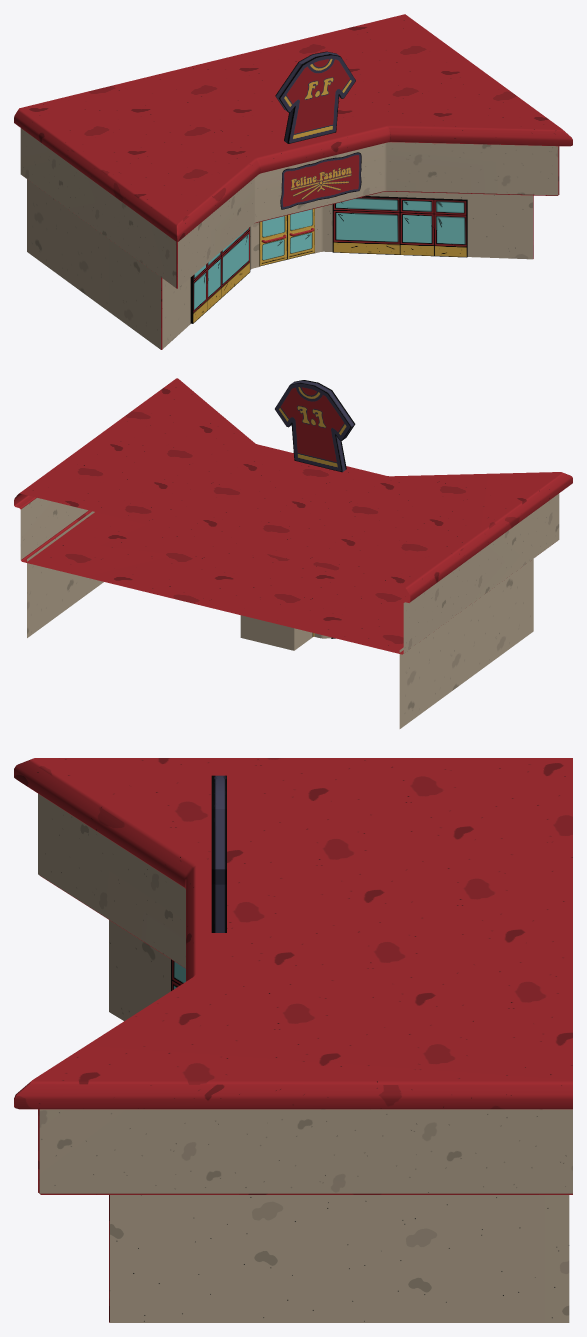
File: Fashion_Shop_.fbx
3 renders of one model, top to bottom at view 1: azimuth 30°, elevation 25°; view 2: azimuth 150°, elevation 25°; view 3: azimuth 270°, elevation 25°, orthographic. The views are drawn at different scales.
Parts seen in each view (by area): view 1: Box031, Box032, Box178, Box181, Box180, Plane002, Box179, Box177, Bot_Right_Shopfront_003, Bot_Right_Shopfront_004; view 2: Box031, Box032, Box178; view 3: Box031, Box032, Box178.
Part boxes in pixels (x1=…): Box031: x1=14, y1=14, x2=572, y2=288; Box032: x1=27, y1=179, x2=533, y2=349; Box178: x1=275, y1=51, x2=355, y2=143; Box181: x1=400, y1=197, x2=467, y2=257; Box180: x1=332, y1=196, x2=399, y2=254; Plane002: x1=280, y1=152, x2=361, y2=209; Box179: x1=190, y1=251, x2=221, y2=323; Box177: x1=221, y1=227, x2=250, y2=297; Bot_Right_Shopfront_003: x1=259, y1=215, x2=287, y2=266; Bot_Right_Shopfront_004: x1=287, y1=208, x2=314, y2=259; Box031: x1=14, y1=378, x2=572, y2=654; Box032: x1=27, y1=511, x2=533, y2=728; Box178: x1=275, y1=380, x2=355, y2=472; Box031: x1=14, y1=758, x2=572, y2=1194; Box032: x1=109, y1=920, x2=569, y2=1322; Box178: x1=211, y1=775, x2=226, y2=932.
Bounding box in the file's own units: 15.59 × 8.47 × 11.1.
